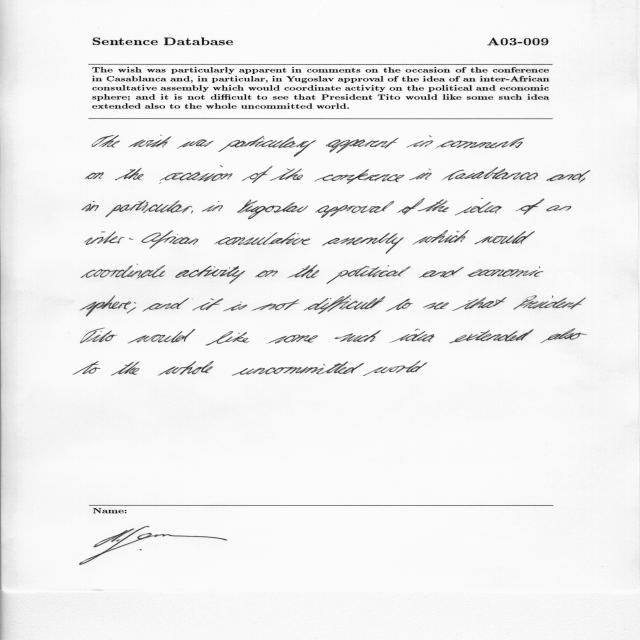word: (85, 230, 198, 249), (218, 136, 316, 157), (232, 361, 364, 376), (322, 233, 404, 254), (326, 265, 411, 284), (304, 295, 386, 314), (105, 200, 192, 217), (237, 200, 308, 220), (315, 169, 405, 184), (315, 201, 394, 218), (159, 166, 233, 184), (441, 167, 538, 180), (176, 266, 246, 284), (216, 232, 311, 245), (449, 329, 534, 343), (81, 264, 165, 278), (80, 296, 136, 317), (513, 295, 586, 310), (326, 138, 398, 153), (436, 138, 524, 149), (363, 361, 427, 376), (128, 329, 196, 343), (412, 230, 469, 245), (158, 361, 214, 376), (467, 266, 543, 277), (455, 198, 502, 215), (474, 231, 535, 244), (453, 297, 507, 311), (540, 329, 587, 344), (206, 331, 250, 346), (142, 298, 189, 312), (390, 329, 434, 343), (251, 299, 299, 311), (335, 330, 381, 342), (81, 328, 117, 343), (242, 166, 273, 183), (128, 135, 171, 147), (419, 267, 464, 278), (546, 170, 590, 181), (397, 198, 425, 215), (516, 199, 545, 215), (269, 335, 318, 344), (270, 168, 303, 181), (417, 200, 449, 213), (111, 362, 140, 376), (288, 265, 319, 278), (192, 298, 223, 311), (73, 361, 101, 375), (92, 135, 120, 148), (386, 299, 413, 312), (115, 168, 144, 180), (177, 140, 213, 149), (407, 136, 434, 148), (409, 169, 432, 180), (202, 201, 223, 212), (82, 201, 99, 212), (423, 302, 449, 309), (223, 304, 247, 311), (255, 270, 278, 277), (547, 206, 572, 212), (85, 172, 104, 179), (127, 307, 136, 313), (579, 178, 585, 183), (191, 210, 193, 214)
